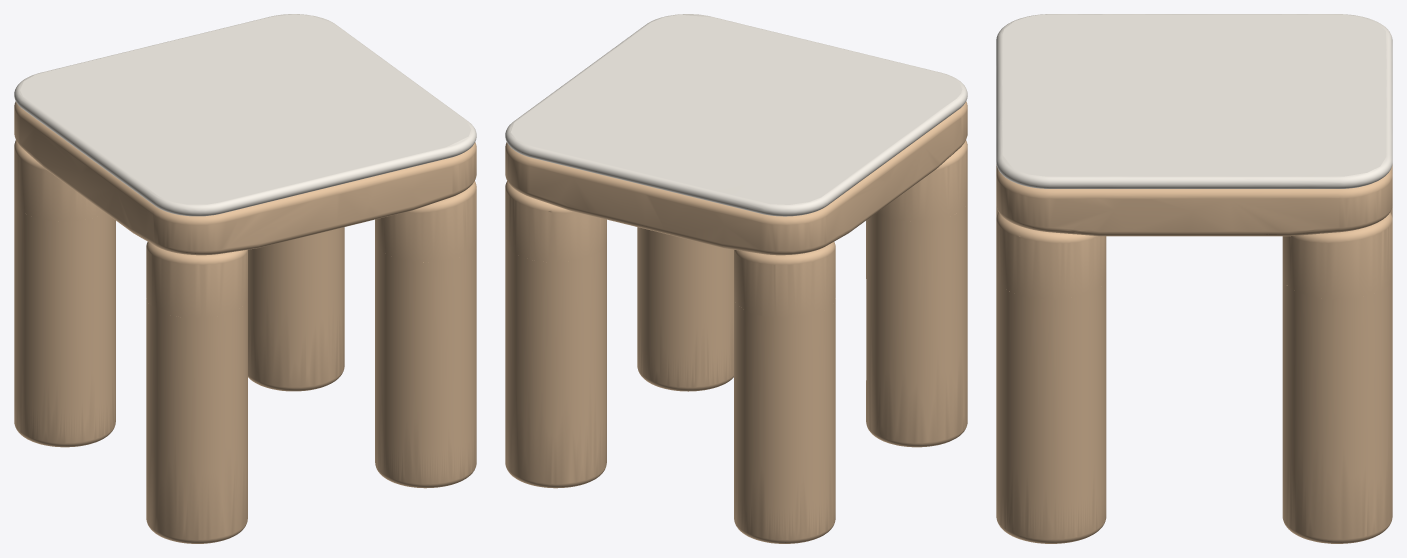
The model's file is frankie.glb.
3 renders of one model, left to right at view 1: azimuth 30°, elevation 25°; view 2: azimuth 150°, elevation 25°; view 3: azimuth 270°, elevation 25°, orthographic. The views are drawn at different scales.
Visible parts, largest first — view 1: body, marble_top; view 2: body, marble_top; view 3: body, marble_top.
Boxes of the visible parts, x1,y1,x2,y2 form: body: (14,101,476,543); marble_top: (14,14,476,216); body: (505,101,967,543); marble_top: (505,14,967,216); body: (996,164,1392,543); marble_top: (996,14,1392,188).
Size of the model in its own units: 0.9774 by 1 by 0.9774.
